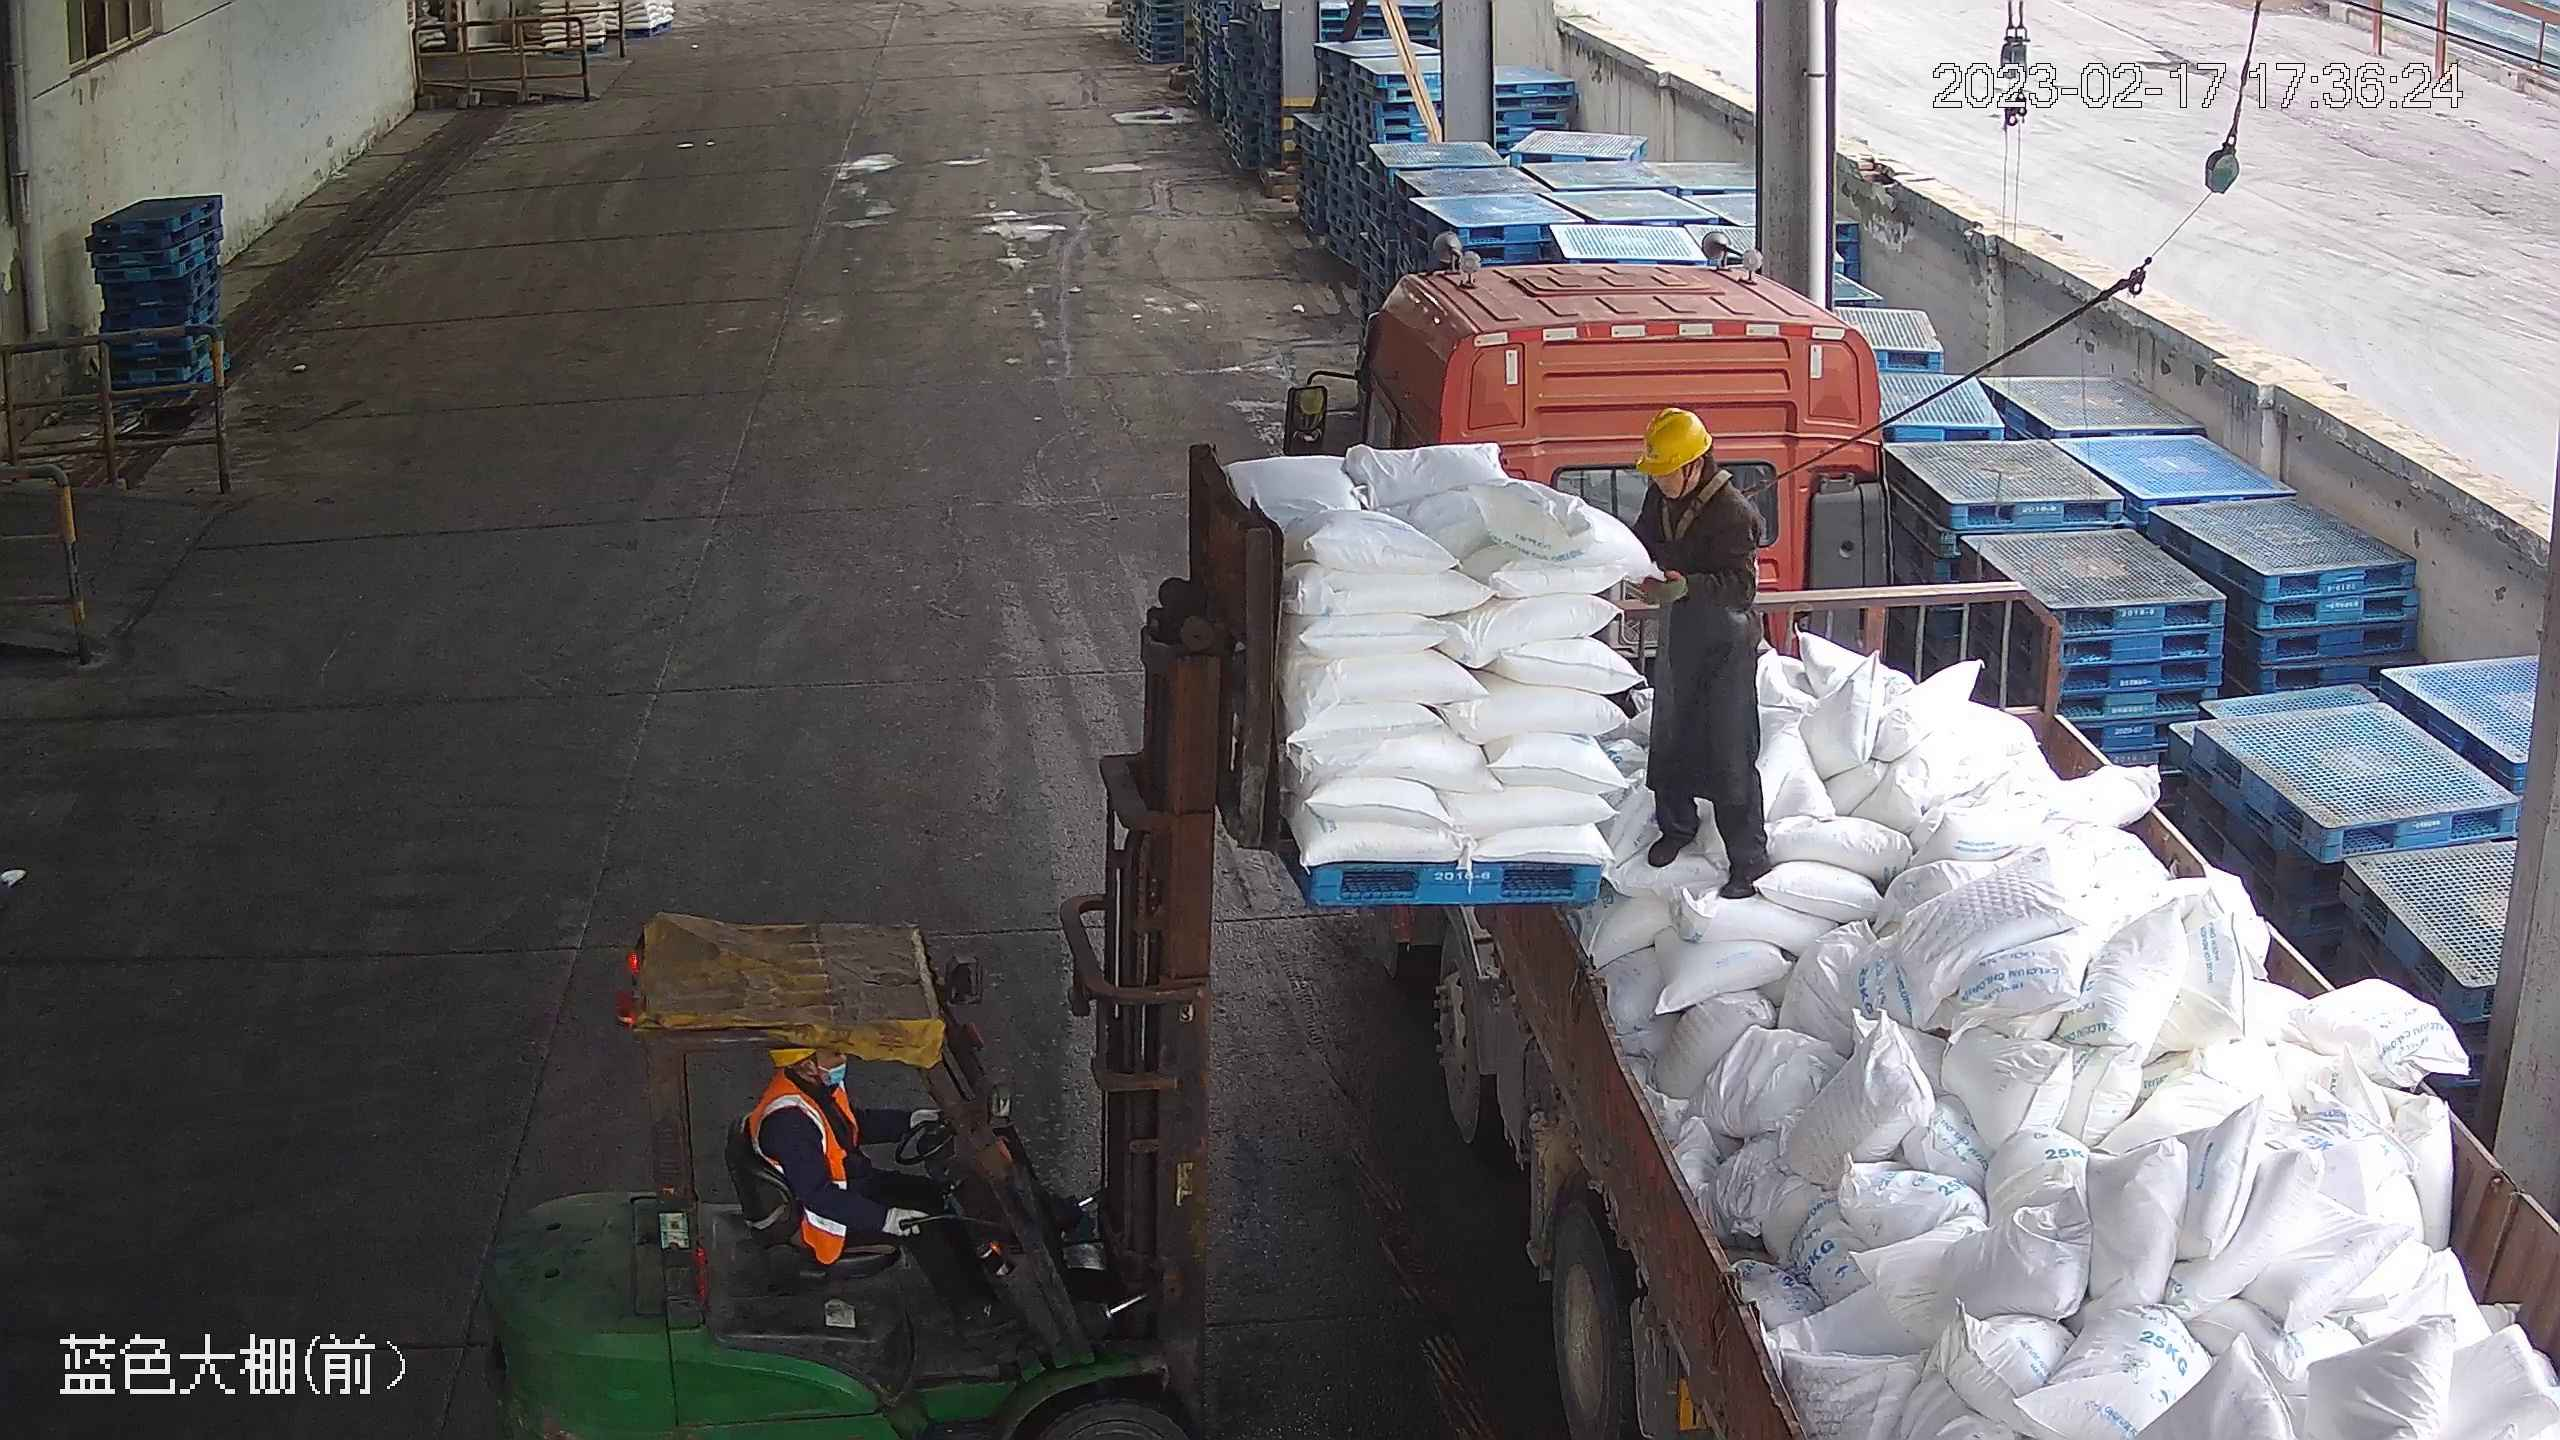belt: (1659, 475, 1738, 555)
head: (1636, 408, 1756, 572)
helmet: (1636, 408, 1716, 476)
people: (754, 1039, 1032, 1345), (1634, 406, 1779, 897)
truck: (1276, 256, 2560, 1440)
